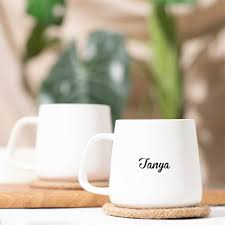mug: (71, 110, 206, 221), (1, 83, 132, 183)
